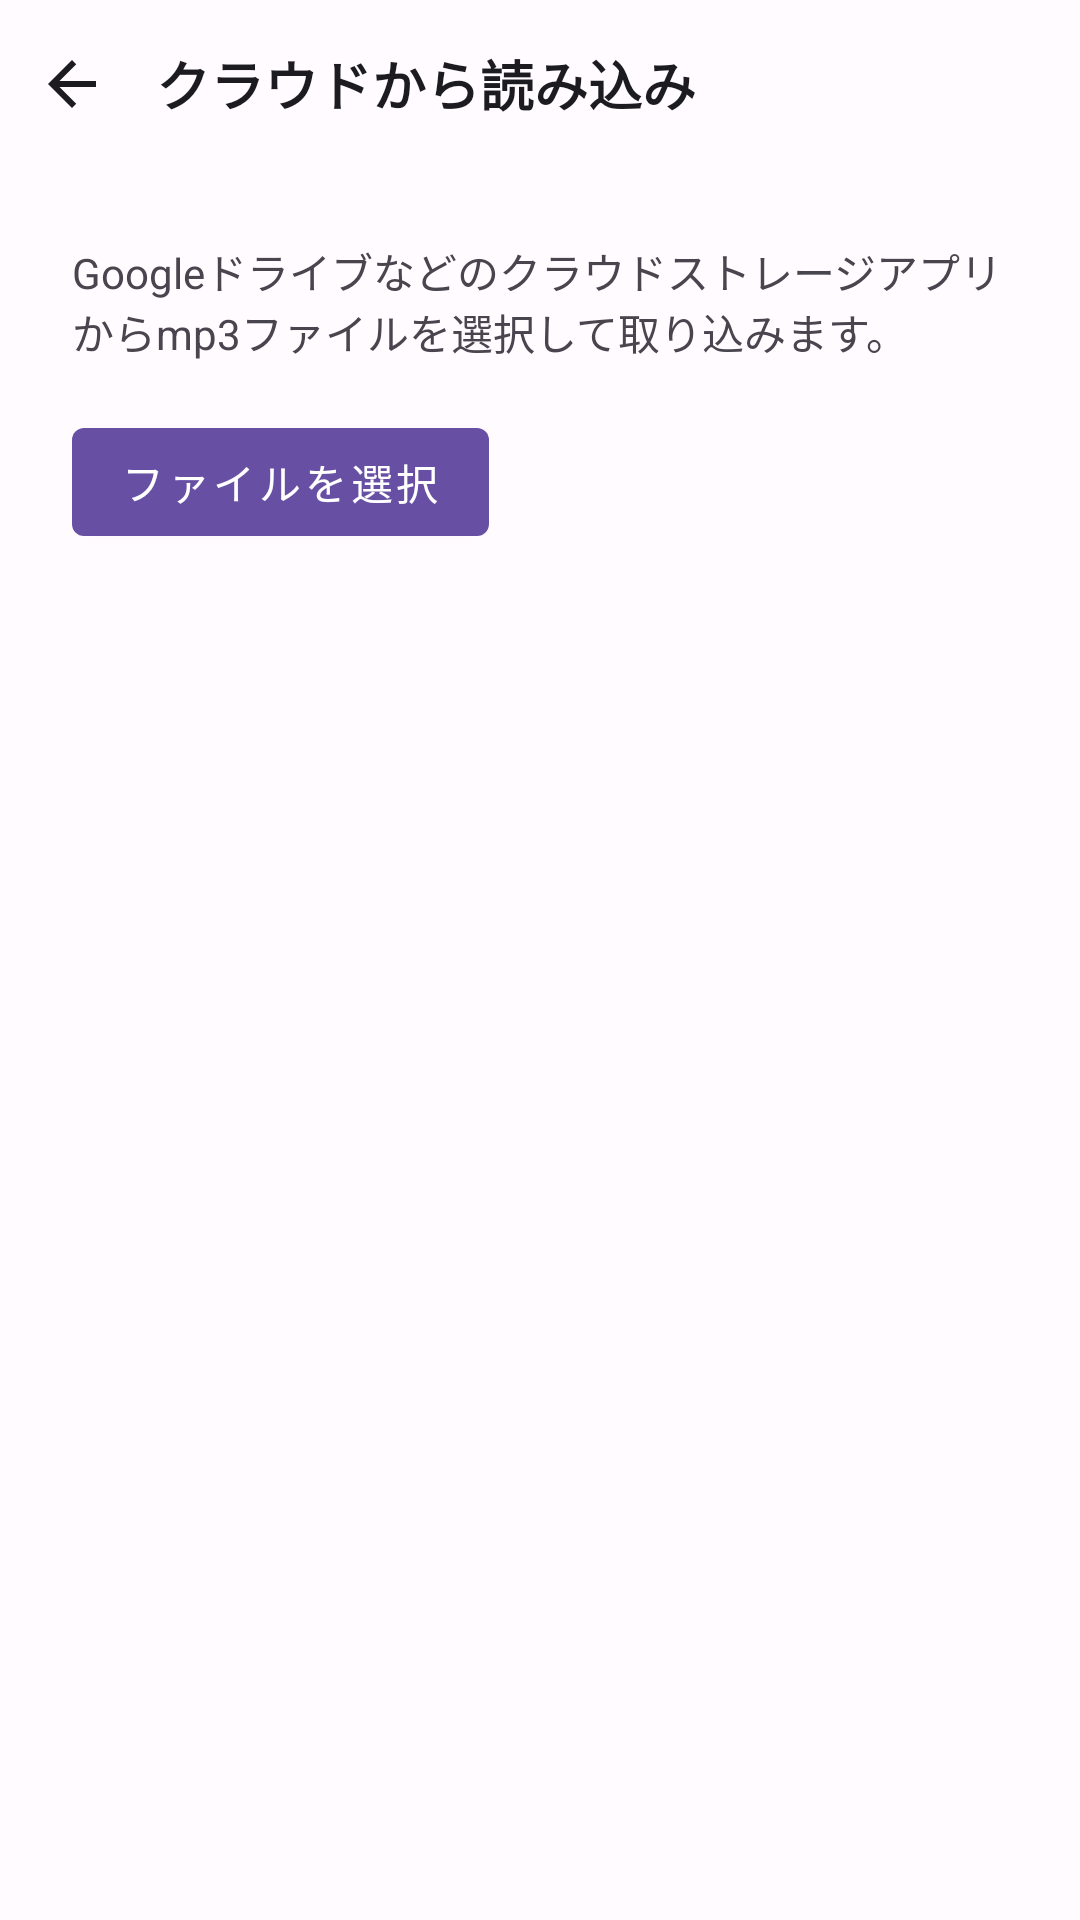

Named icons in this screenshot (1080*1920) and their centers, point (x, y):
戻る: point (72, 84)
